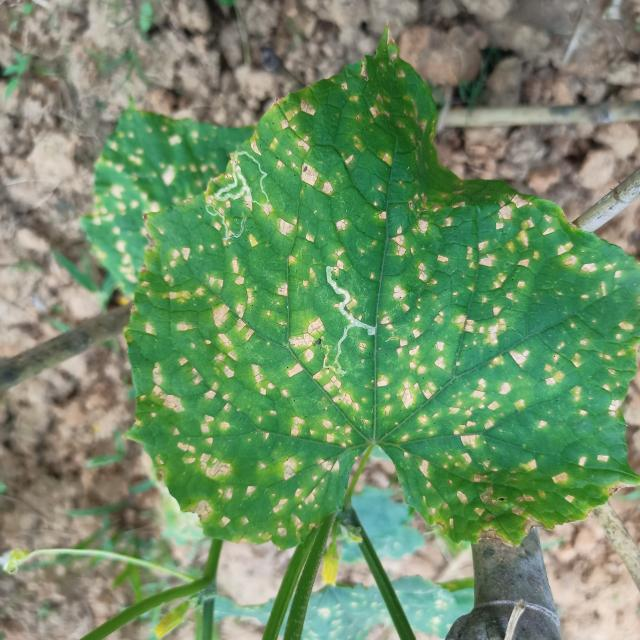disease_cucumber: (146, 100, 622, 534)
